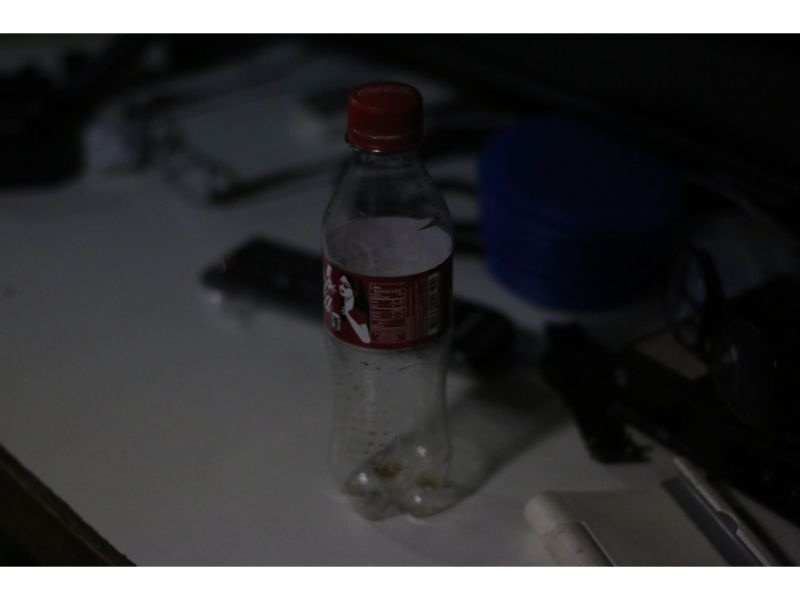PET #1: (311, 76, 470, 523)
